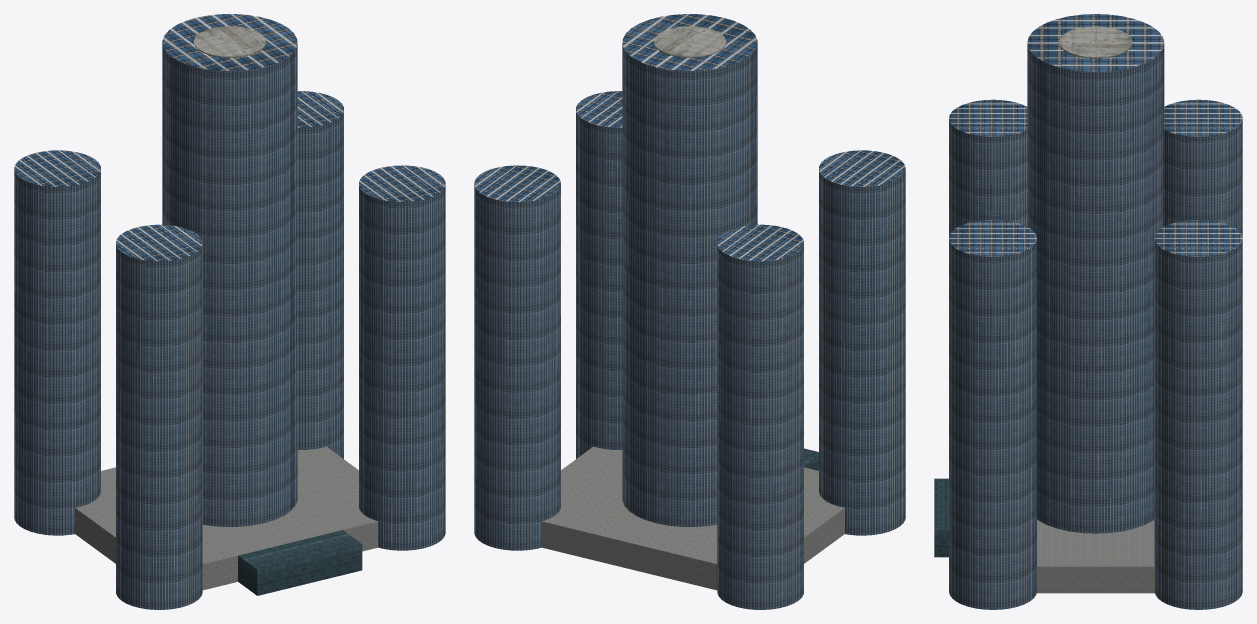
File: ironport-towers_lod0.gltf
3 views of the same model, side by side, from view 1: azimuth 30°, elevation 25°; view 2: azimuth 150°, elevation 25°; view 3: azimuth 270°, elevation 25° (orthographic).
Visible parts, largest first — view 1: ironport-towers_cyl0, ironport-towers_cyl1, ironport-towers_cyl2, ironport-towers_cyl3, ironport-towers_cyl4, ironport-towers_base, ironport-towers__atrium, ironport-towers__helipad; view 2: ironport-towers_cyl0, ironport-towers_cyl3, ironport-towers_cyl4, ironport-towers_cyl1, ironport-towers_cyl2, ironport-towers_base, ironport-towers__helipad; view 3: ironport-towers_cyl0, ironport-towers_cyl4, ironport-towers_cyl2, ironport-towers_cyl3, ironport-towers_cyl1, ironport-towers_base, ironport-towers__helipad, ironport-towers__atrium.
Part boxes in pixels (bbox=[...]): ironport-towers_cyl0: bbox=[162, 14, 297, 526]; ironport-towers_cyl1: bbox=[116, 224, 202, 609]; ironport-towers_cyl2: bbox=[359, 165, 445, 550]; ironport-towers_cyl3: bbox=[14, 150, 100, 535]; ironport-towers_cyl4: bbox=[297, 91, 343, 458]; ironport-towers_base: bbox=[75, 446, 378, 590]; ironport-towers__atrium: bbox=[238, 530, 362, 595]; ironport-towers__helipad: bbox=[193, 26, 266, 57]; ironport-towers_cyl0: bbox=[622, 14, 757, 526]; ironport-towers_cyl3: bbox=[717, 224, 803, 609]; ironport-towers_cyl4: bbox=[474, 165, 560, 550]; ironport-towers_cyl1: bbox=[819, 150, 905, 535]; ironport-towers_cyl2: bbox=[576, 91, 622, 458]; ironport-towers_base: bbox=[541, 446, 844, 590]; ironport-towers__helipad: bbox=[653, 26, 726, 57]; ironport-towers_cyl0: bbox=[1027, 14, 1164, 533]; ironport-towers_cyl4: bbox=[1154, 219, 1242, 609]; ironport-towers_cyl2: bbox=[949, 219, 1036, 609]; ironport-towers_cyl3: bbox=[1164, 99, 1242, 236]; ironport-towers_cyl1: bbox=[949, 99, 1027, 236]; ironport-towers_base: bbox=[1036, 519, 1154, 593]; ironport-towers__helipad: bbox=[1059, 26, 1132, 58]; ironport-towers__atrium: bbox=[934, 478, 948, 557].
Bounding box in the file's own units: 152 × 220 × 126.
